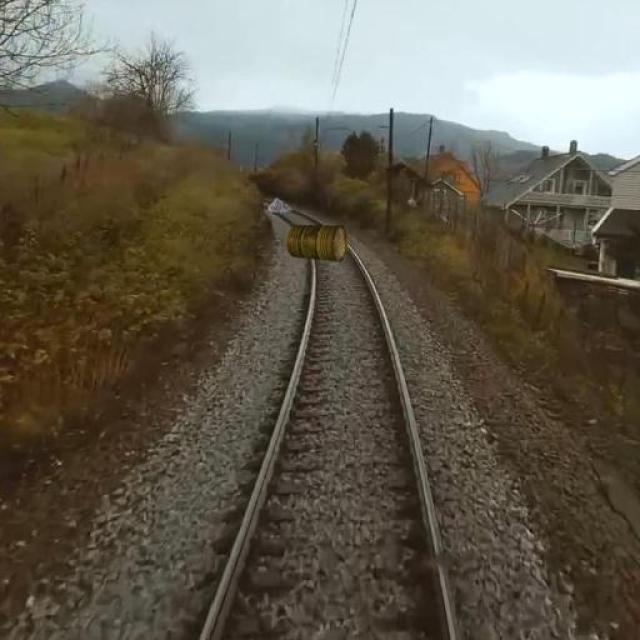Other_objects: (284, 221, 356, 276)
Stone: (258, 193, 299, 217)
